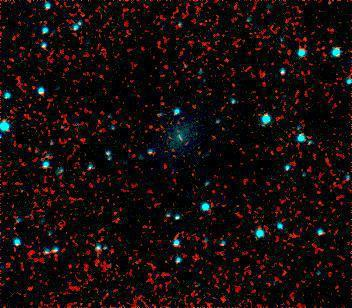star: (169, 117, 199, 147)
